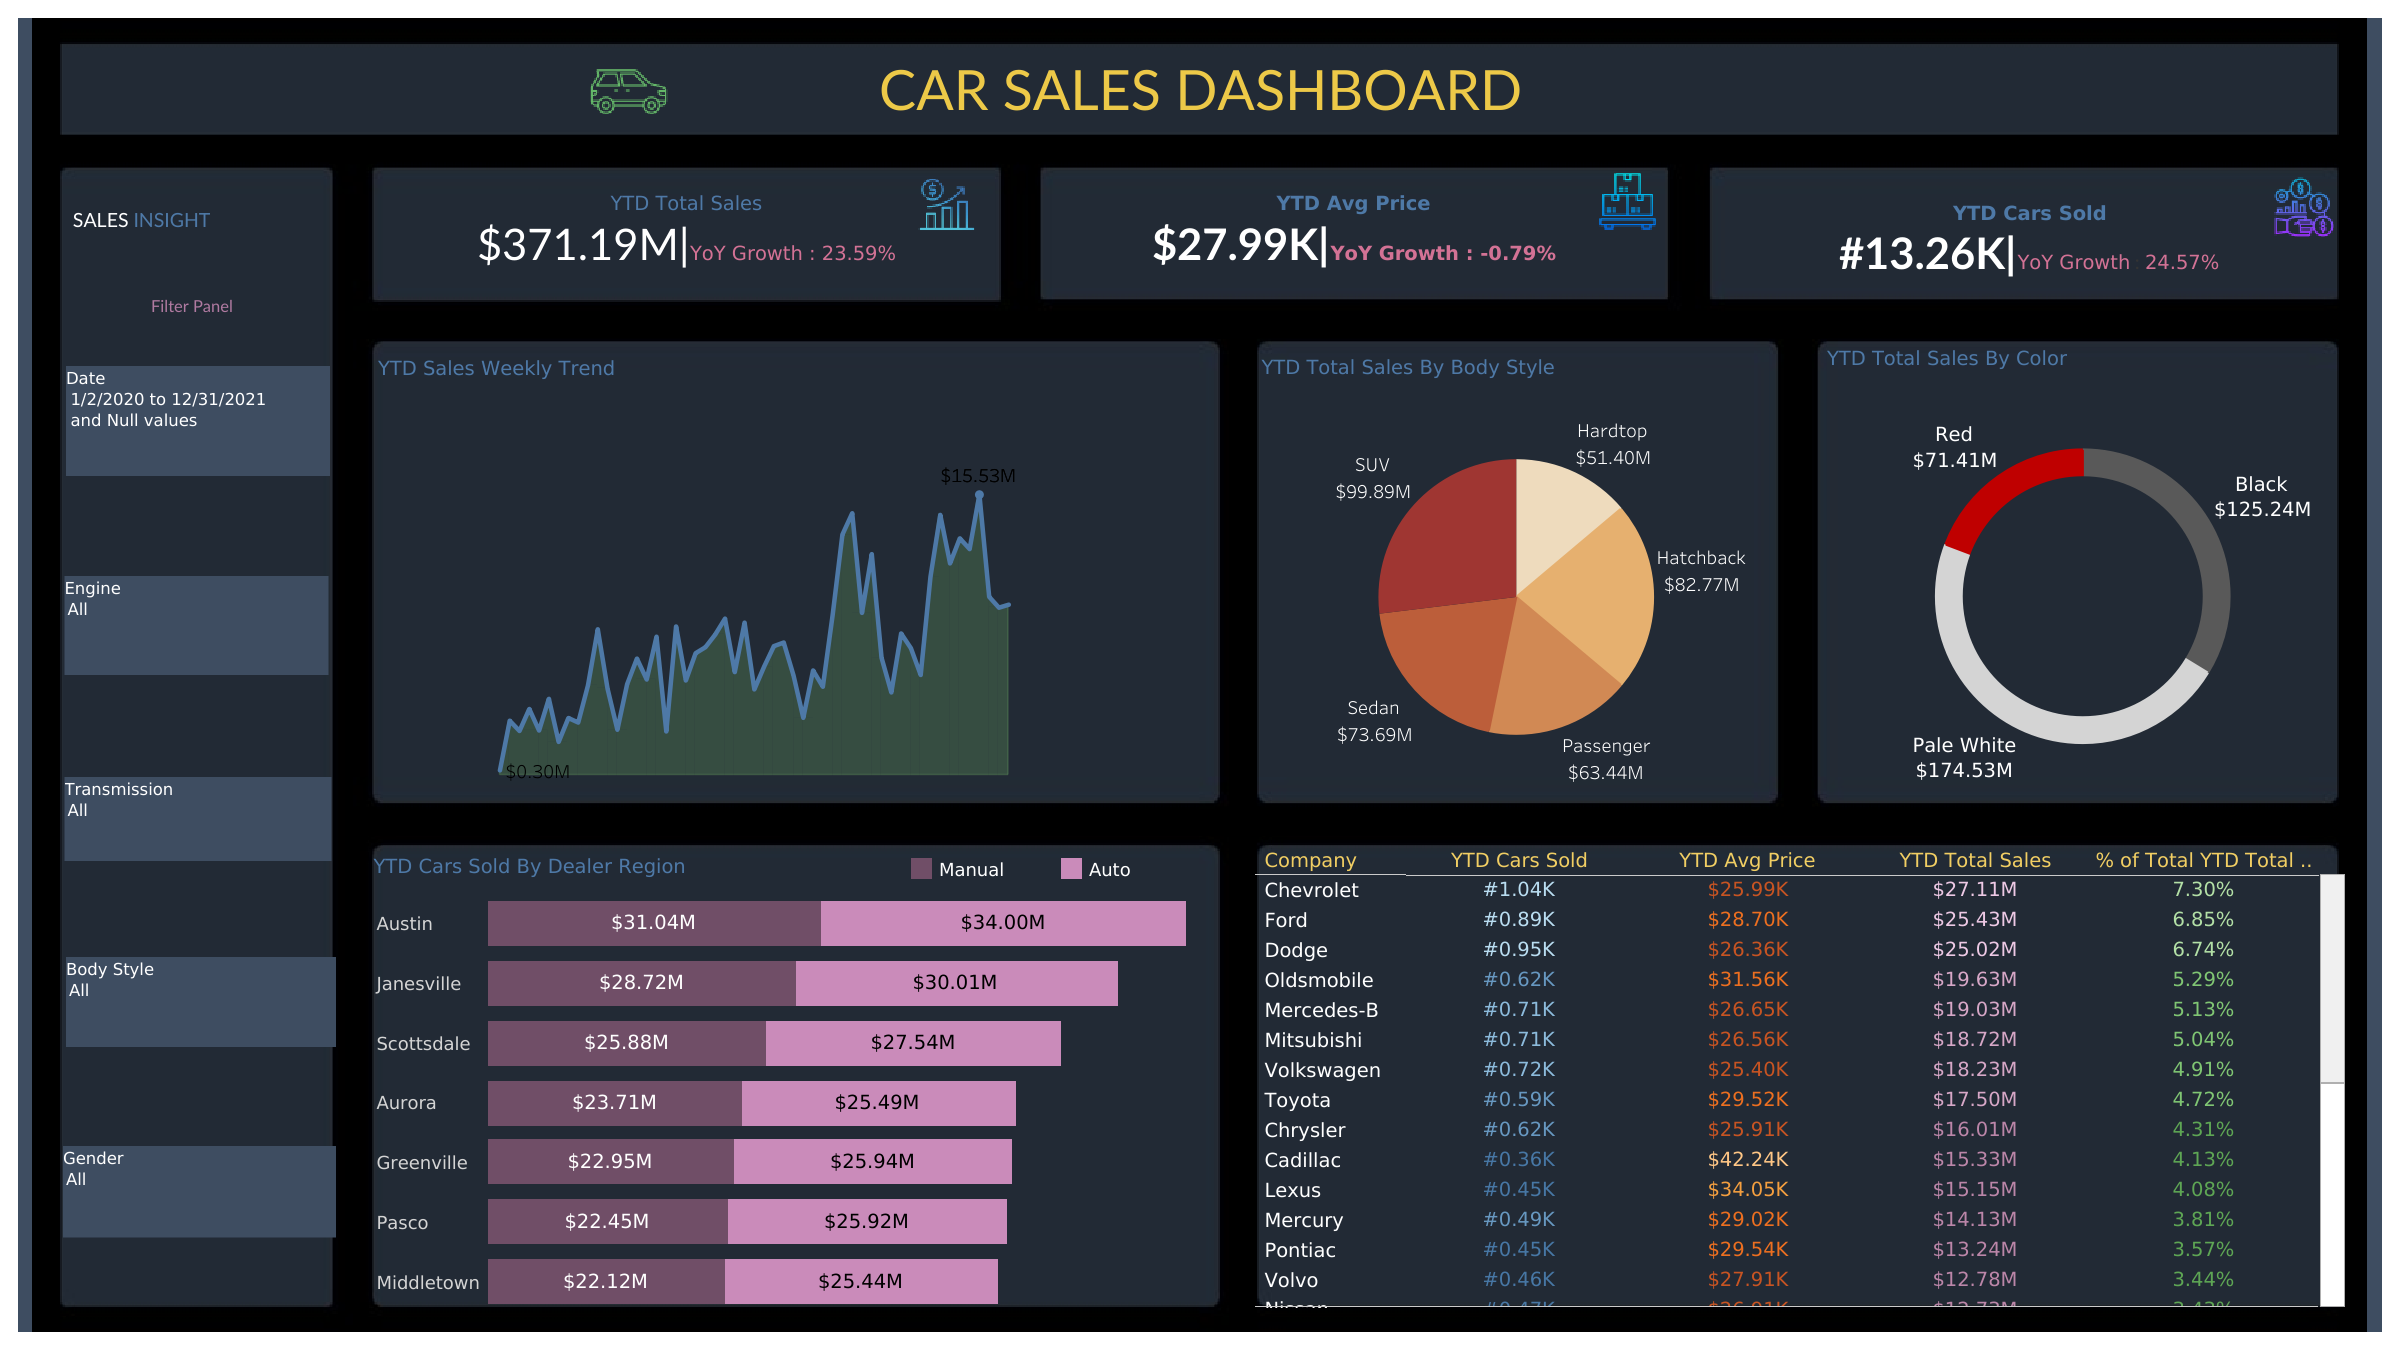

What the dashboard file says about the page in this screenshot:
{"tool":"tableau","page":{"name":"Car Sales Dashboard","canvas":[1600,900],"ordinal":0},"visuals":[{"type":"image","param":"Image/Car Sales Background.jpg","box":[8,8,1584,884]},{"type":"text","box":[40,26,1521,65]},{"type":"image","param":"Image/Car Icon.png","box":[372,31,95,60]},{"type":"worksheet","title":"YTD Avg Price","mark":"Automatic","box":[692,106,422,95]},{"type":"worksheet","title":"YTD Total Sales","mark":"Automatic","box":[246,112,425,84]},{"type":"image","param":"Image/Avg Price Icon.png","box":[1064,114,42,40]},{"type":"worksheet","title":"YTD Cars Sold","mark":"Automatic","box":[1142,115,423,89]},{"type":"image","param":"Image/Sales Icon.png","box":[610,116,42,40]},{"type":"image","param":"Image/Cars Sold Icon.png","box":[1515,118,42,40]},{"type":"text","box":[46,134,164,24]},{"type":"text","box":[46,192,164,24]},{"type":"worksheet","title":"YTD Total Sales By Color","mark":"Pie","rows":["Calculation_682013929151021071","Calculation_682013929151057937"],"box":[1214,224,349,315]},{"type":"worksheet","title":"YTD Total Sales By Body Style","mark":"Pie","box":[837,230,347,304]},{"type":"worksheet","title":"YTD Sales Weekly Trend","mark":"Line","rows":["Calculation_682013929080377344","Calculation_682013929080377344"],"cols":["Date"],"box":[248,231,561,303]},{"type":"filter","title":"YTD Sales Weekly Trend","param":"[federated.168fcew0hhat5t18jnidm076w8p6].[none:Date:qk]","box":[44,244,176,73]},{"type":"filter","title":"YTD Sales Weekly Trend","param":"[federated.168fcew0hhat5t18jnidm076w8p6].[none:Engine:nk]","box":[43,384,176,66]},{"type":"filter","title":"YTD Sales Weekly Trend","param":"[federated.168fcew0hhat5t18jnidm076w8p6].[none:Transmission:nk]","box":[43,518,178,56]},{"type":"worksheet","title":"YTD Cars Sold By Dealer Region","mark":"Automatic","rows":["Dealer_Region"],"cols":["Calculation_682013929080377344"],"box":[245,563,568,311]},{"type":"worksheet","title":"Company Wise Sales Trend","mark":"Automatic","rows":["Company"],"box":[837,563,727,309]},{"type":"legend","title":"YTD Cars Sold By Dealer Region","param":"[federated.168fcew0hhat5t18jnidm076w8p6].[none:Transmission:nk]","box":[604,569,210,34]},{"type":"filter","title":"YTD Sales Weekly Trend","param":"[federated.168fcew0hhat5t18jnidm076w8p6].[none:Body Style:nk]","box":[44,638,180,60]},{"type":"filter","title":"YTD Sales Weekly Trend","param":"[federated.168fcew0hhat5t18jnidm076w8p6].[none:Gender:nk]","box":[42,764,182,61]}]}

Visuals, with their boxes in screenshot pixels (x1, y1, x2, y2), scaled from the page's 1600x900 canvas onto the 2399x1349 screenshot:
image: left=12, top=12, right=2387, bottom=1337
text: left=60, top=39, right=2341, bottom=136
image: left=558, top=46, right=700, bottom=136
"YTD Avg Price" worksheet: left=1038, top=159, right=1670, bottom=301
"YTD Total Sales" worksheet: left=369, top=168, right=1006, bottom=294
image: left=1595, top=171, right=1658, bottom=231
"YTD Cars Sold" worksheet: left=1712, top=172, right=2347, bottom=306
image: left=915, top=174, right=978, bottom=234
image: left=2272, top=177, right=2335, bottom=237
text: left=69, top=201, right=315, bottom=237
text: left=69, top=288, right=315, bottom=324
"YTD Total Sales By Color" worksheet (Pie marks): left=1820, top=336, right=2344, bottom=808
"YTD Total Sales By Body Style" worksheet (Pie marks): left=1255, top=345, right=1775, bottom=800
"YTD Sales Weekly Trend" worksheet (Line marks): left=372, top=346, right=1213, bottom=800
"YTD Sales Weekly Trend" filter: left=66, top=366, right=330, bottom=475
"YTD Sales Weekly Trend" filter: left=64, top=576, right=328, bottom=674
"YTD Sales Weekly Trend" filter: left=64, top=776, right=331, bottom=860
"YTD Cars Sold By Dealer Region" worksheet: left=367, top=844, right=1219, bottom=1310
"Company Wise Sales Trend" worksheet: left=1255, top=844, right=2345, bottom=1307
"YTD Cars Sold By Dealer Region" legend: left=906, top=853, right=1220, bottom=904
"YTD Sales Weekly Trend" filter: left=66, top=956, right=336, bottom=1046
"YTD Sales Weekly Trend" filter: left=63, top=1145, right=336, bottom=1237
